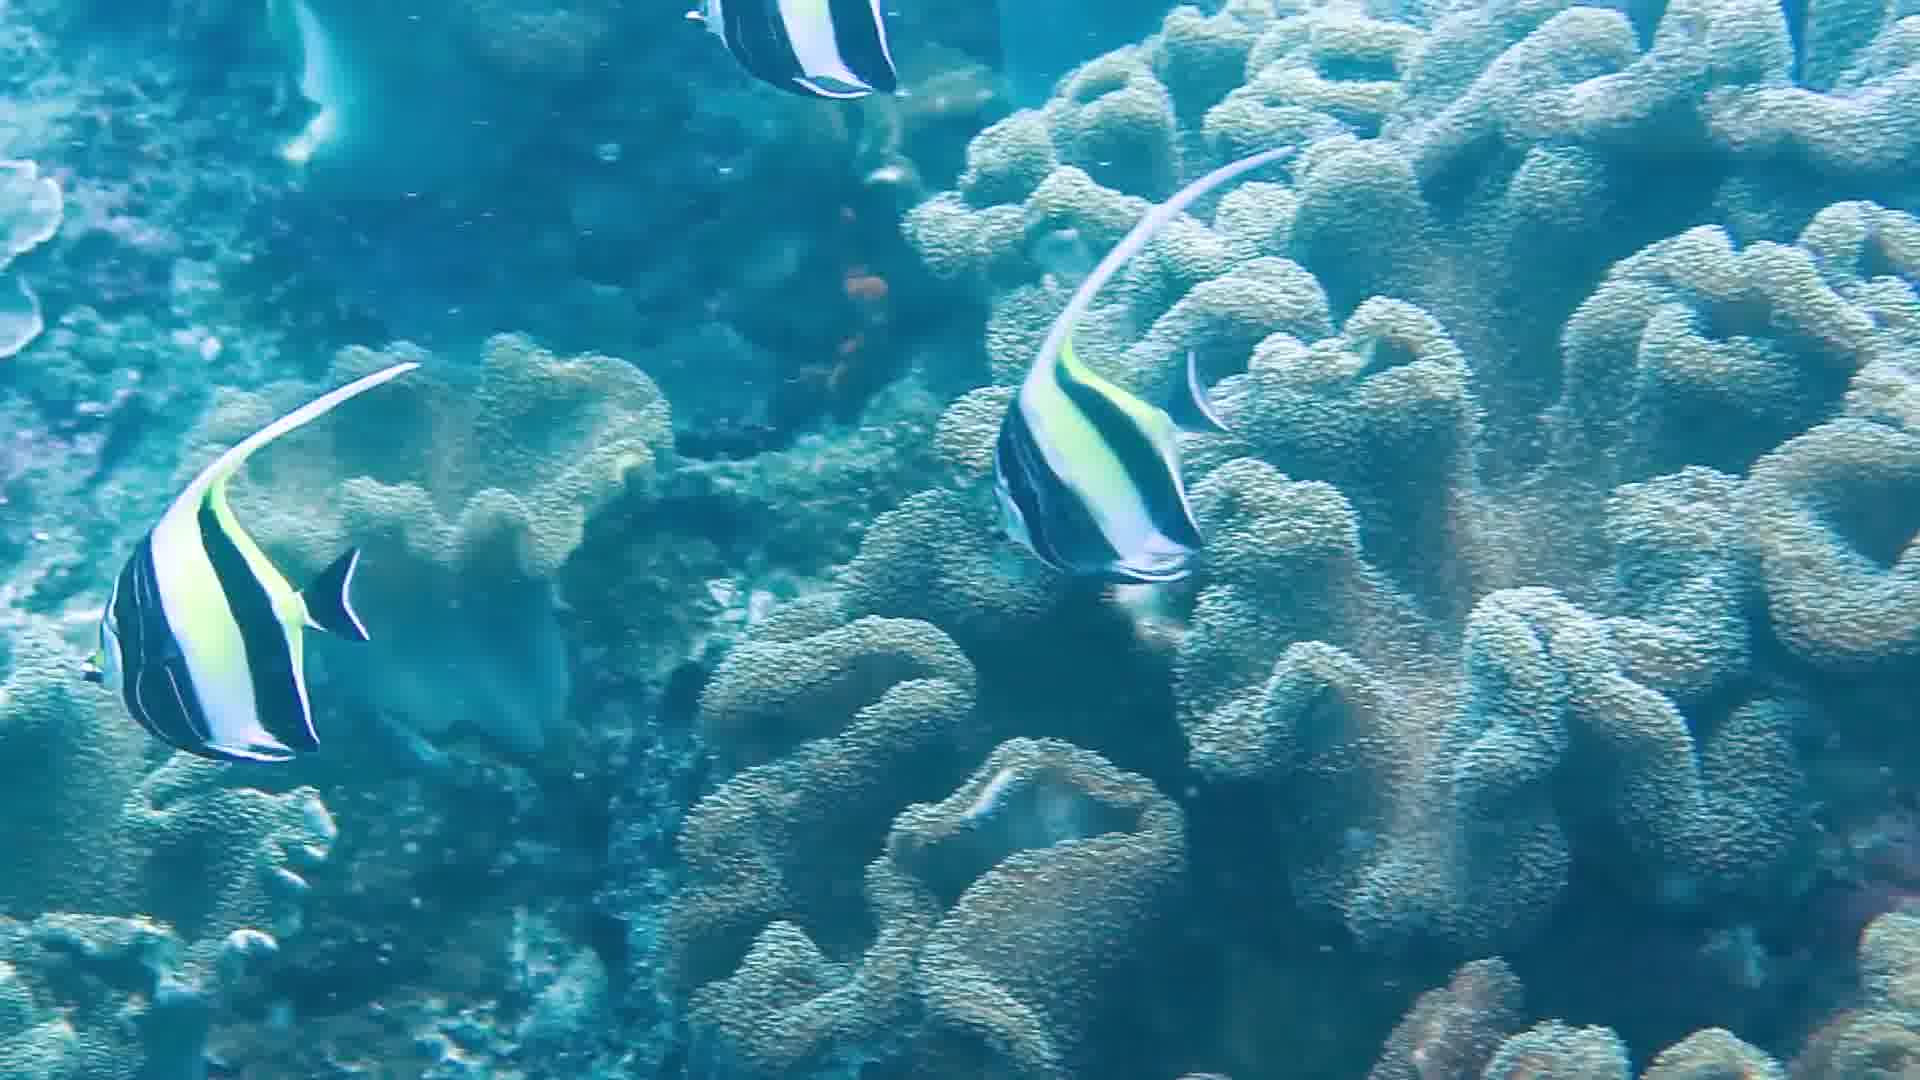Zanclus cornutus: (83, 443, 361, 774), (959, 295, 1237, 626), (654, 1, 984, 102)
